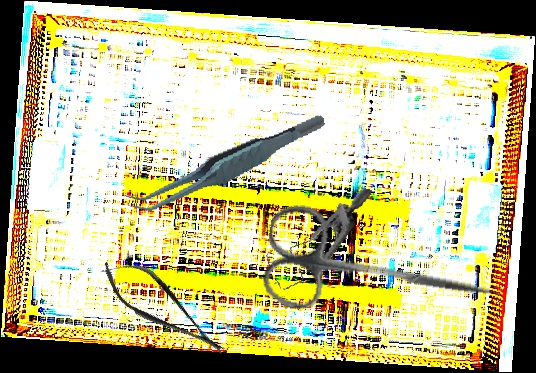Iris Scissors: (258, 200, 501, 341)
Micro Scissor: (92, 245, 235, 371)
Speculum: (259, 168, 372, 305)
Tissue Forceps: (117, 112, 336, 217)
